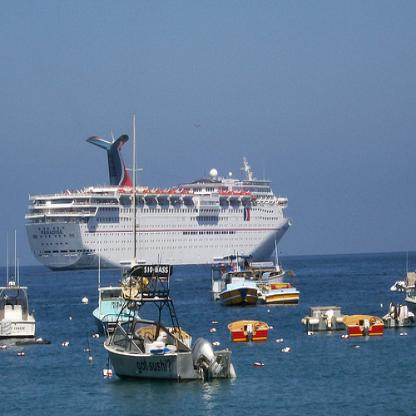boat: (23, 128, 292, 270), (103, 262, 231, 383), (0, 227, 35, 343), (92, 286, 143, 338), (218, 252, 258, 307), (249, 258, 296, 284), (302, 308, 347, 332), (227, 319, 269, 343), (342, 313, 385, 336), (263, 281, 303, 304), (384, 308, 415, 328)
